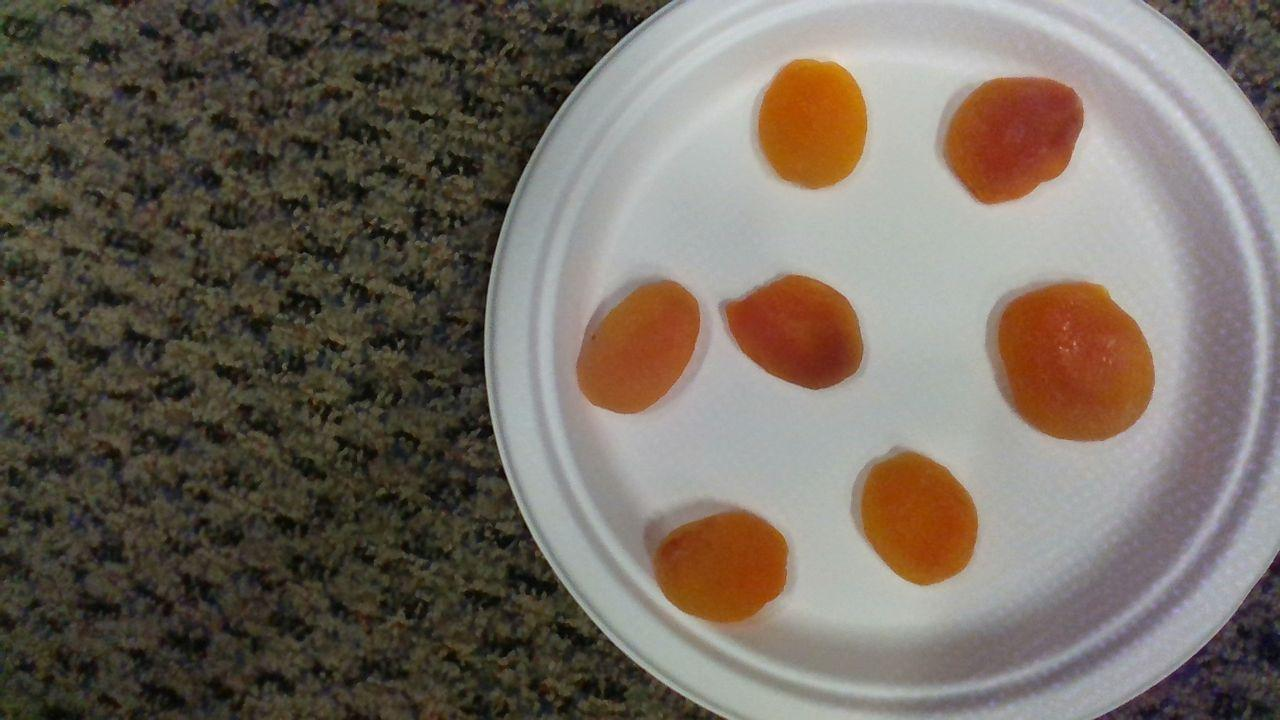apricot: (1000, 284, 1155, 441), (951, 78, 1084, 203), (578, 282, 699, 412), (862, 455, 978, 584), (729, 276, 862, 388), (658, 513, 789, 621), (761, 59, 866, 187)
